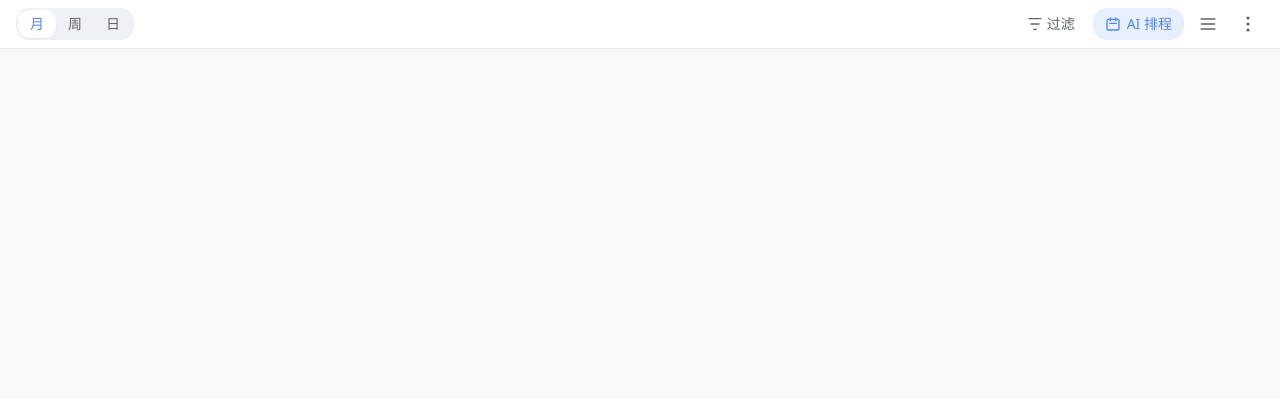
Test: CalendarToolbar 日历工具栏 › AI 排程入口 › 点击 AI 排程按钮打开排程面板
This screenshot has width=1280, height=399.
Click the button titled "AI 自动安排日程".
click(1138, 24)  # box [1093, 8, 1184, 40]
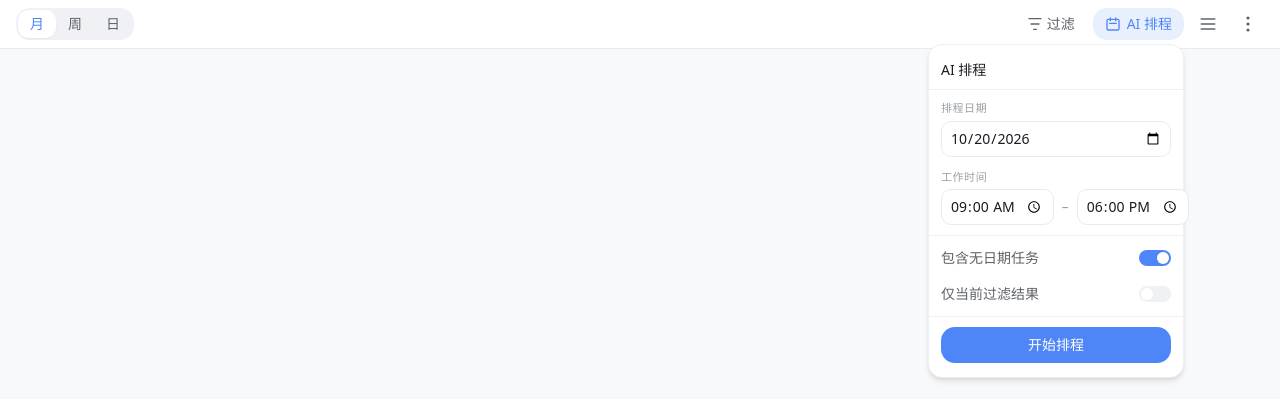
Expected: the text "排程日期" is shown, [941, 100, 987, 115]
